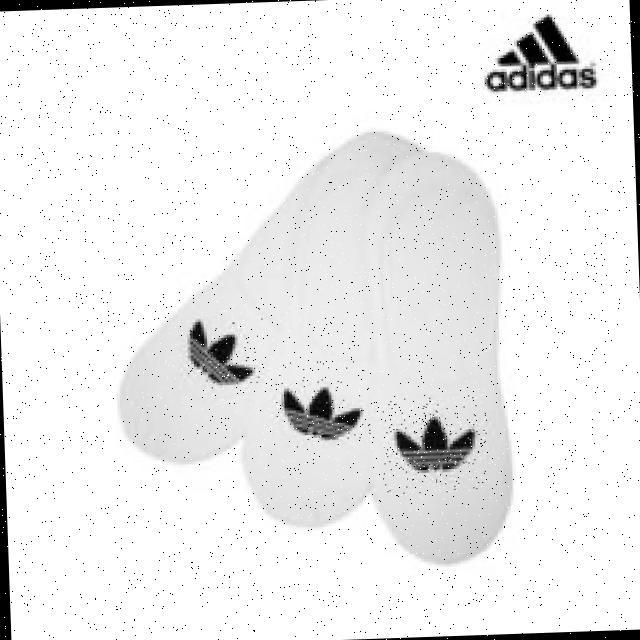Adidas: (379, 393, 491, 494), (275, 358, 372, 453), (178, 308, 267, 400)
